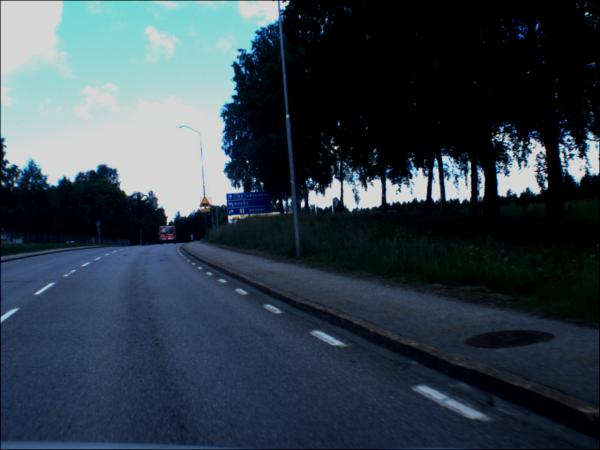WARNING: (201, 198, 214, 209)
